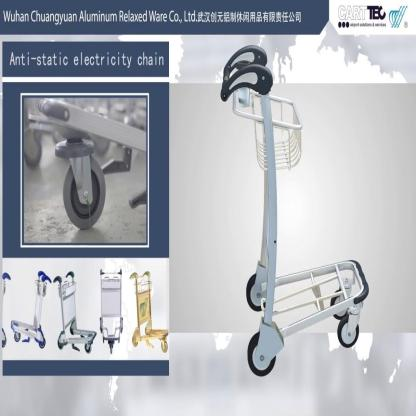airport-trolley: (219, 43, 371, 376), (37, 97, 148, 232), (53, 270, 97, 354), (129, 270, 169, 353), (11, 270, 52, 349), (99, 268, 124, 355), (1, 269, 11, 350)
